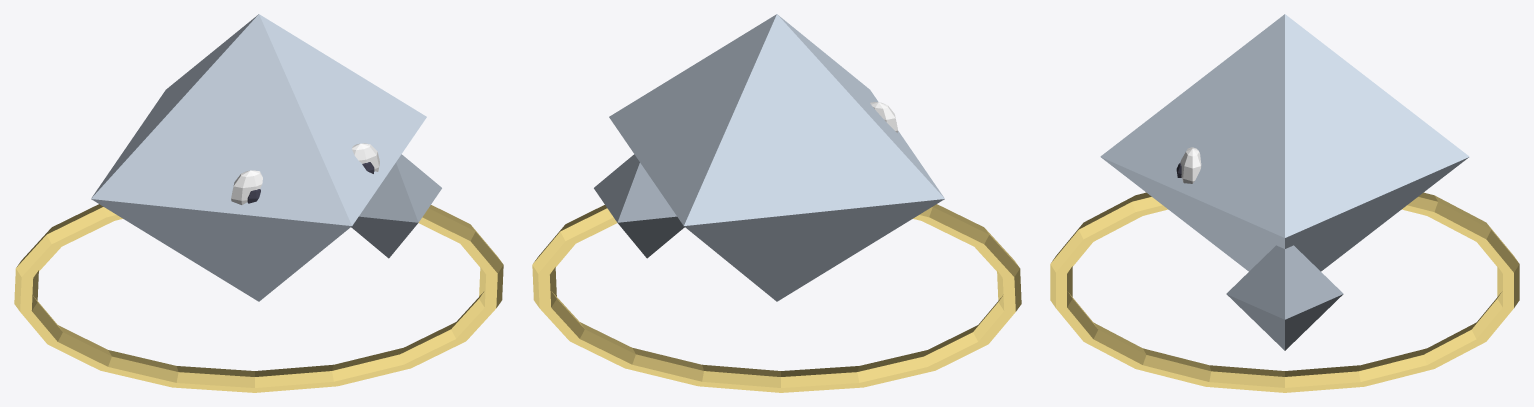
File: grizzlydump.glb
3 views of the same model, side by side, from view 1: azimuth 30°, elevation 25°; view 2: azimuth 150°, elevation 25°; view 3: azimuth 270°, elevation 25° (orthographic).
Visible parts, largest first — view 1: grizzlydump; view 2: grizzlydump; view 3: grizzlydump.
Boxes of the visible parts, x1,y1,x2,y2 form: grizzlydump: [14, 14, 503, 392]; grizzlydump: [532, 14, 1021, 392]; grizzlydump: [1050, 14, 1519, 392].
Size of the model in its own units: 2.3 by 1.46 by 2.18.
